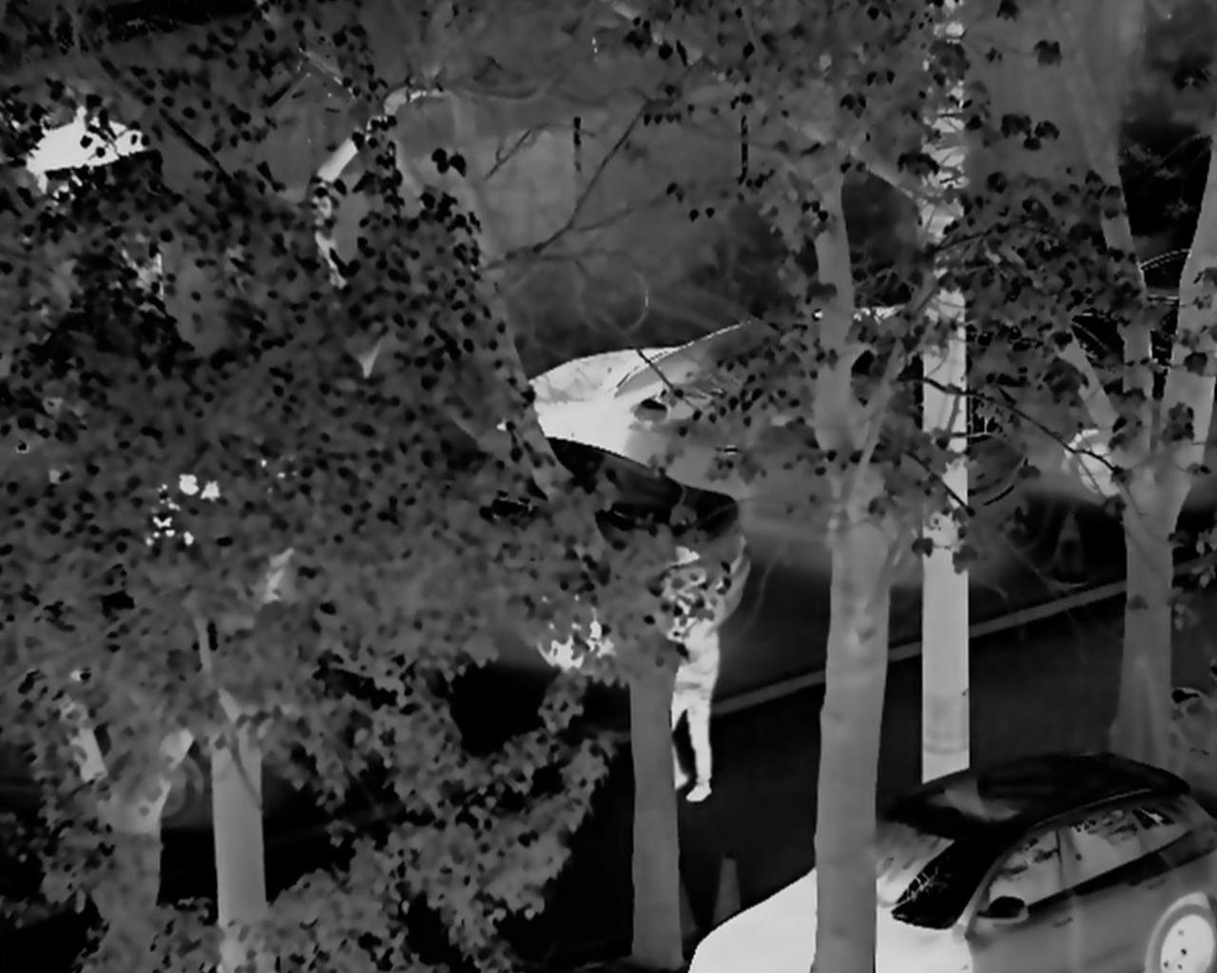person: (651, 584, 726, 810)
